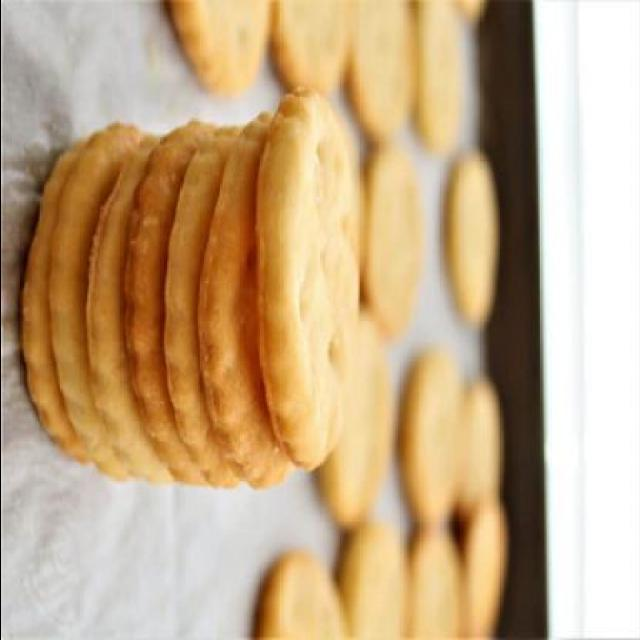Ritz cracker packaged: (41, 90, 364, 508)
